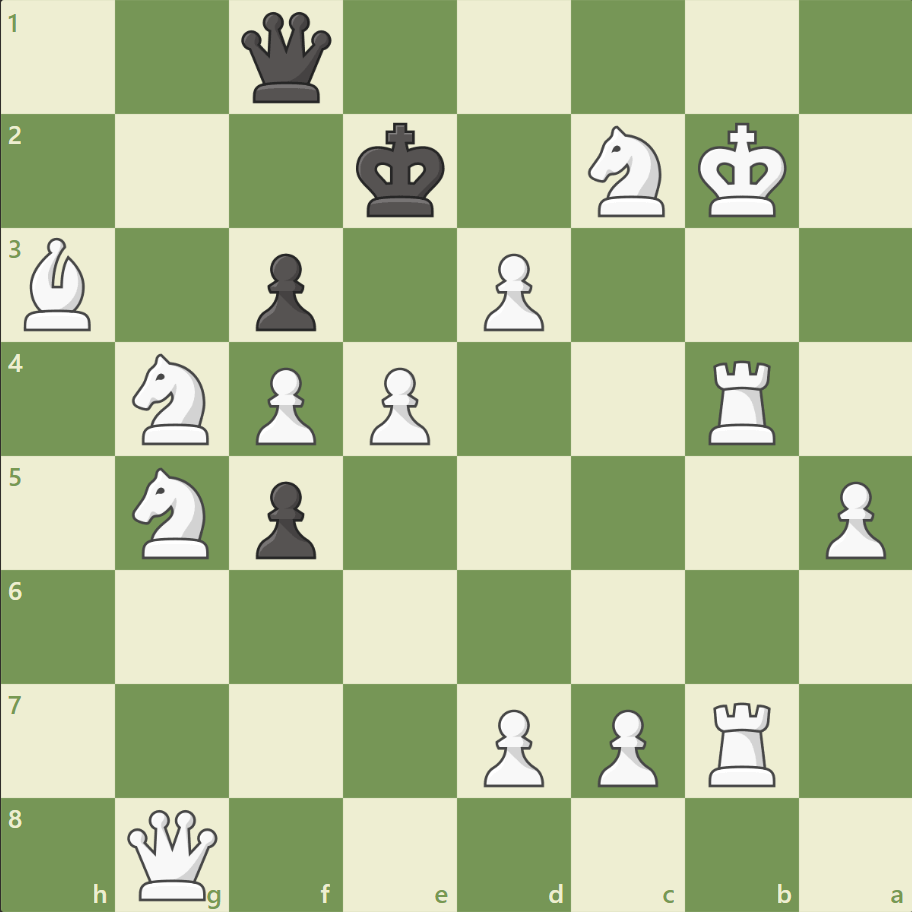B: (17, 233, 101, 336)
K: (692, 117, 792, 225)
N: (124, 461, 222, 564), (124, 348, 222, 450), (579, 121, 676, 223)
P: (474, 700, 549, 791), (247, 359, 322, 450), (474, 246, 549, 337), (588, 700, 662, 791), (815, 473, 889, 564), (361, 359, 435, 450)
Q: (124, 804, 223, 903)
R: (700, 693, 783, 790), (700, 352, 783, 449)
k: (351, 117, 451, 225)
p: (247, 473, 322, 564), (247, 246, 322, 337)
q: (237, 9, 336, 108)
